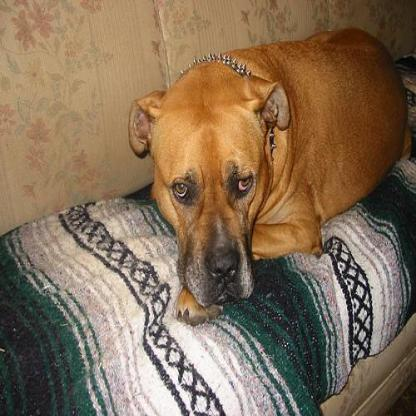bull_mastiff: (126, 27, 412, 324)
